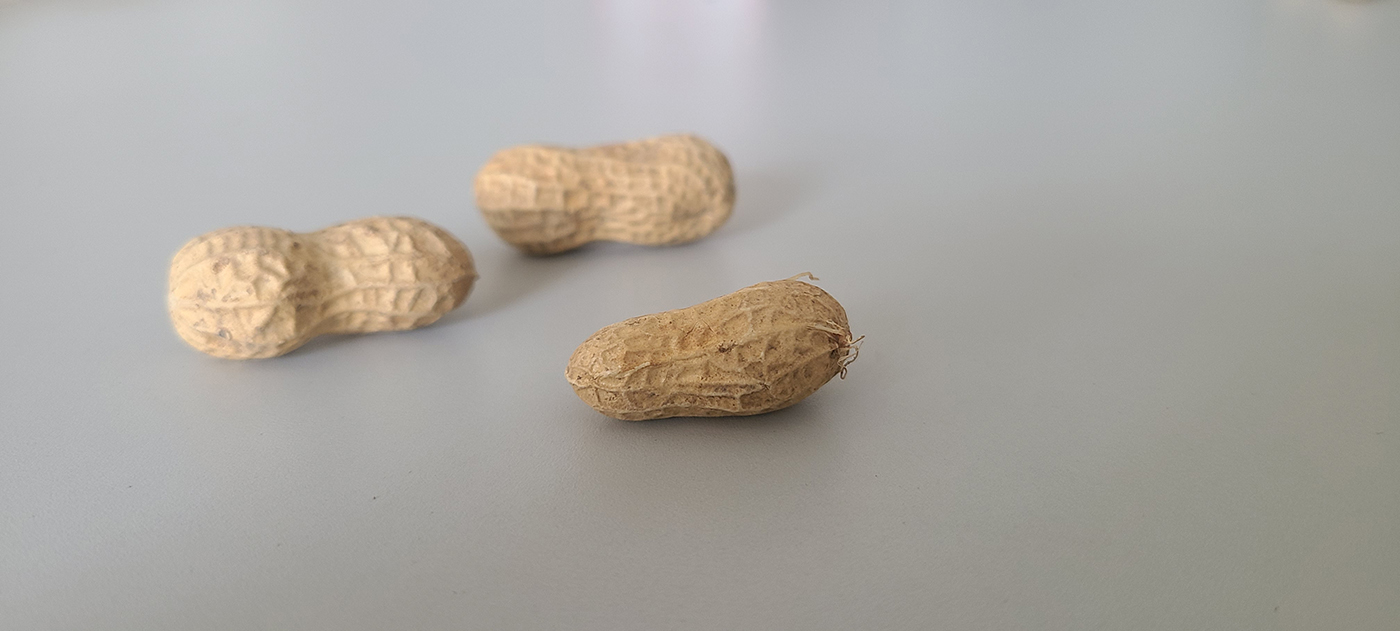h: (164, 212, 479, 357), (561, 279, 851, 423), (470, 130, 737, 253)
